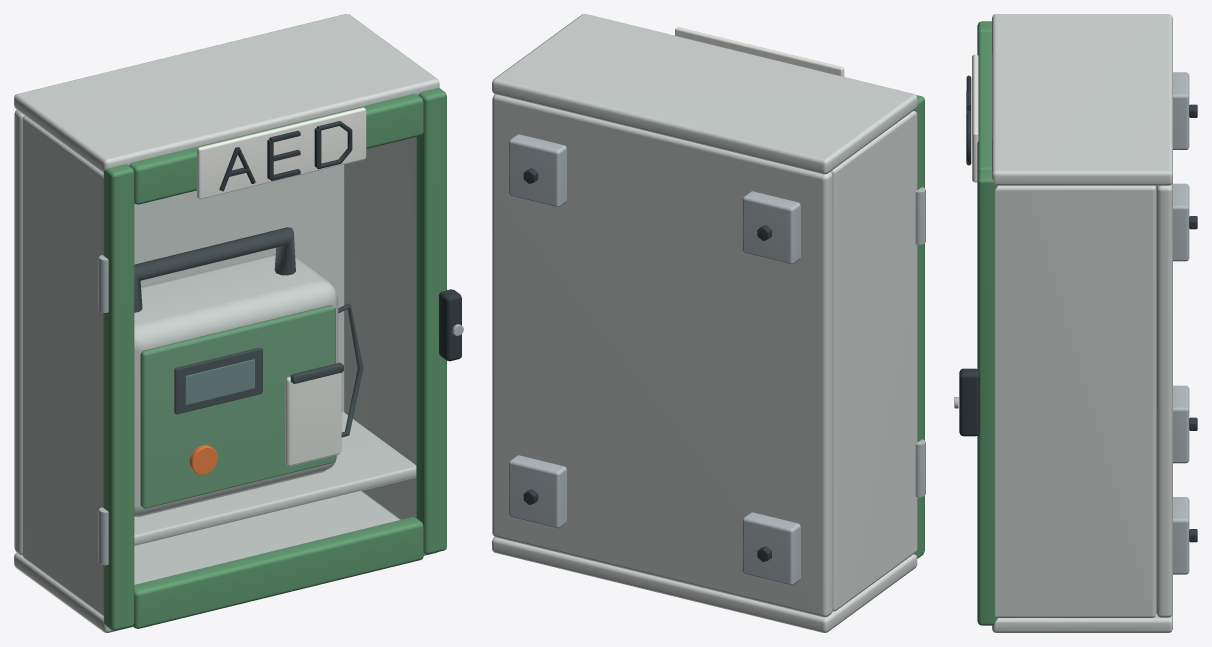
File: city-aed-cabinet.glb
The picture shows the model from 3 angles, left to right: view 1: azimuth 30°, elevation 25°; view 2: azimuth 150°, elevation 25°; view 3: azimuth 270°, elevation 25°; orthographic projection. The views are drawn at different scales.
Visible parts, largest first — view 1: Glazed door panel, Cabinet side wall, Cabinet upper and lower wall.001, Cabinet side wall.001, Device front face, Cabinet rear wall, Portable device case, Door upright frame, Door upright frame.001, Door horizontal frame, Cabinet upper and lower wall, Device support shelf (+9 smaller); view 2: Cabinet rear wall, Cabinet side wall, Cabinet upper and lower wall.001, Cabinet upper and lower wall, Rear mounting tab, Rear mounting tab.001, Rear mounting tab.002, Rear mounting tab.003, Door upright frame, Upper AED label plate, Door hinge barrel, Door hinge barrel.001; view 3: Cabinet side wall.001, Cabinet upper and lower wall.001, Door upright frame.001, Cabinet rear wall, Cabinet upper and lower wall, Door horizontal frame.001, Door pull latch, Rear mounting tab, Rear mounting tab.003, Rear mounting tab.001, Rear mounting tab.002, Upper AED label plate.
Part boxes in pixels (x1,y1,x2,y2): Glazed door panel: (135,137,416,584); Cabinet side wall: (22,116,103,616); Cabinet upper and lower wall.001: (14,14,439,173); Cabinet side wall.001: (344,137,416,519); Device front face: (140,305,335,508); Cabinet rear wall: (14,110,343,555); Portable device case: (134,254,338,517); Door upright frame: (103,164,134,630); Door upright frame.001: (416,88,446,554); Door horizontal frame: (132,517,423,628); Cabinet upper and lower wall: (14,491,437,632); Device support shelf: (134,412,416,545); Cabinet rear wall: (492,94,832,617); Cabinet side wall: (830,111,917,611); Cabinet upper and lower wall.001: (492,14,917,174); Cabinet upper and lower wall: (492,537,917,632); Rear mounting tab: (742,512,800,585); Rear mounting tab.001: (742,191,800,264); Rear mounting tab.002: (509,455,566,528); Rear mounting tab.003: (509,134,566,207); Door upright frame: (914,95,924,558); Upper AED label plate: (675,27,844,76); Door hinge barrel: (915,439,925,497); Door hinge barrel.001: (915,187,925,244); Cabinet side wall.001: (995,185,1156,617); Cabinet upper and lower wall.001: (992,14,1172,185); Door upright frame.001: (977,170,997,625); Cabinet rear wall: (1156,182,1172,617); Cabinet upper and lower wall: (992,613,1172,632); Door horizontal frame.001: (977,32,991,173); Door pull latch: (959,368,979,436); Rear mounting tab: (1173,385,1189,463); Rear mounting tab.003: (1173,183,1189,261); Rear mounting tab.001: (1173,72,1189,149); Rear mounting tab.002: (1173,497,1189,574); Upper AED label plate: (972,54,978,182).
Size of the model in its own units: 0.476 by 0.62 by 0.2955.
